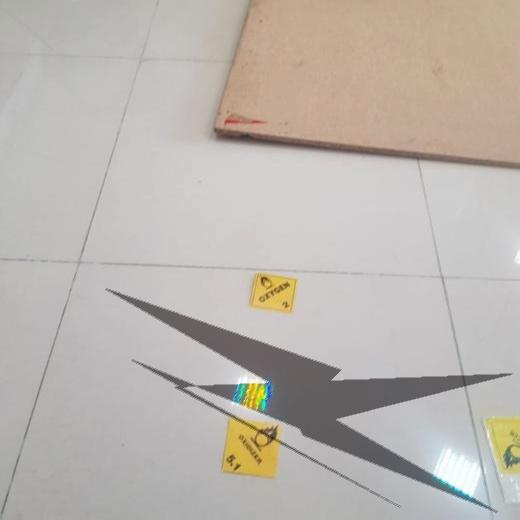oxidizer: (221, 421, 282, 479), (249, 274, 300, 316)
